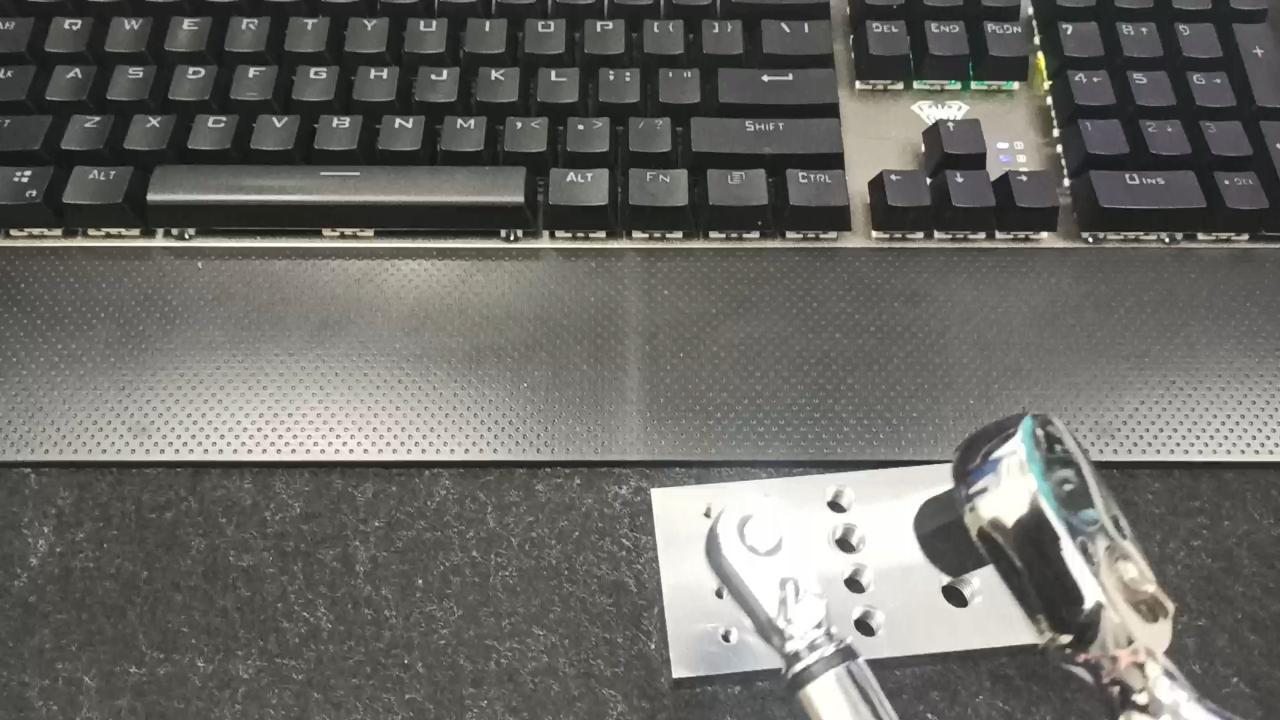Tool: (925, 414, 1211, 720), (714, 491, 842, 661)
